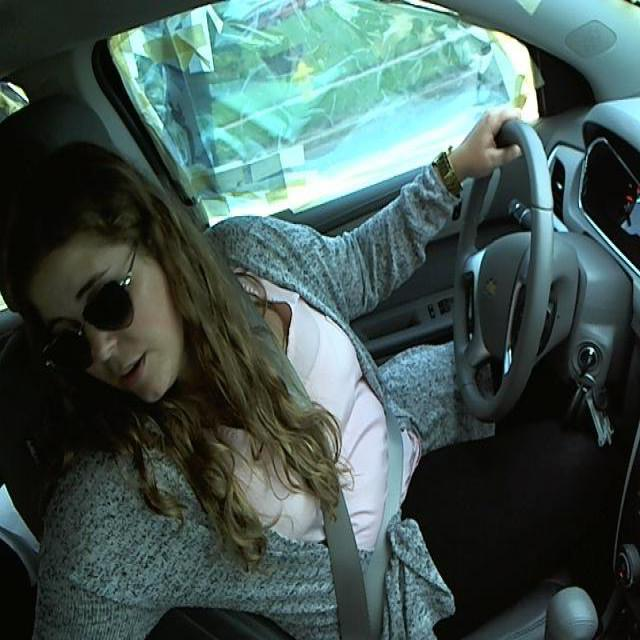seatbelt: (253, 325, 421, 632)
